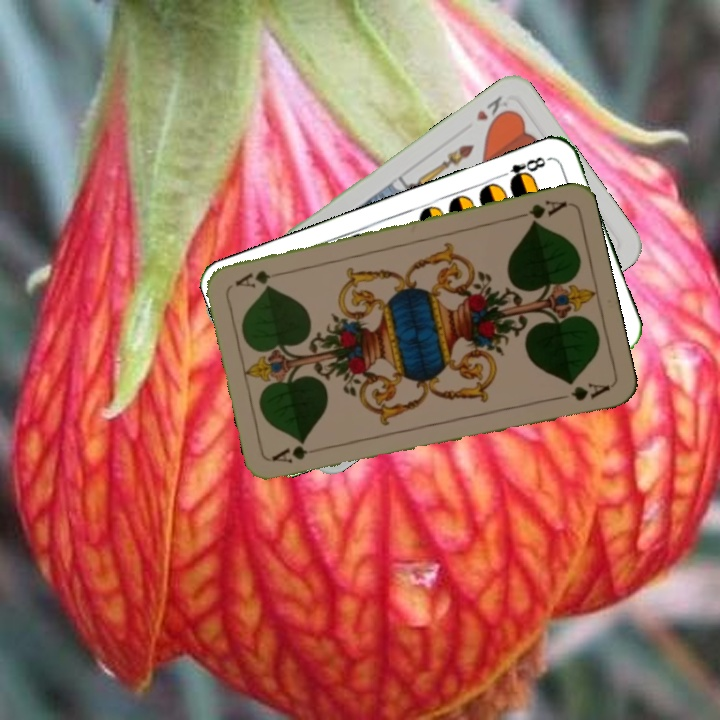E8: (495, 152, 548, 188)
GA: (511, 196, 570, 227), (269, 442, 328, 466)
HK: (472, 91, 511, 123)
